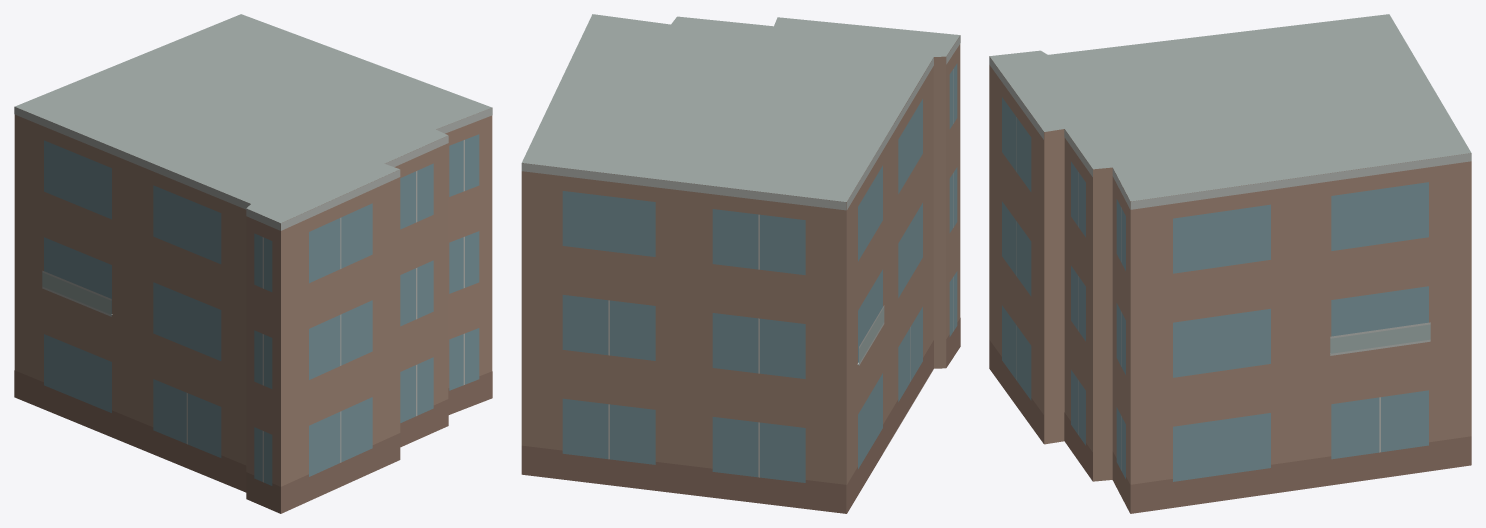
File: survey-upis-32675594.glb
The picture shows the model from 3 angles, left to right: view 1: azimuth 30°, elevation 25°; view 2: azimuth 150°, elevation 25°; view 3: azimuth 270°, elevation 25°; orthographic projection. The views are drawn at different scales.
Visible parts, largest first — view 1: survey-upis-32675594.tmp; view 2: survey-upis-32675594.tmp; view 3: survey-upis-32675594.tmp.
Boxes of the visible parts, x1,y1,x2,y2 form: survey-upis-32675594.tmp: [14, 14, 492, 513]; survey-upis-32675594.tmp: [521, 14, 960, 513]; survey-upis-32675594.tmp: [989, 14, 1471, 513].
Bounding box in the file's own units: 11.79 × 9.15 × 12.81.
